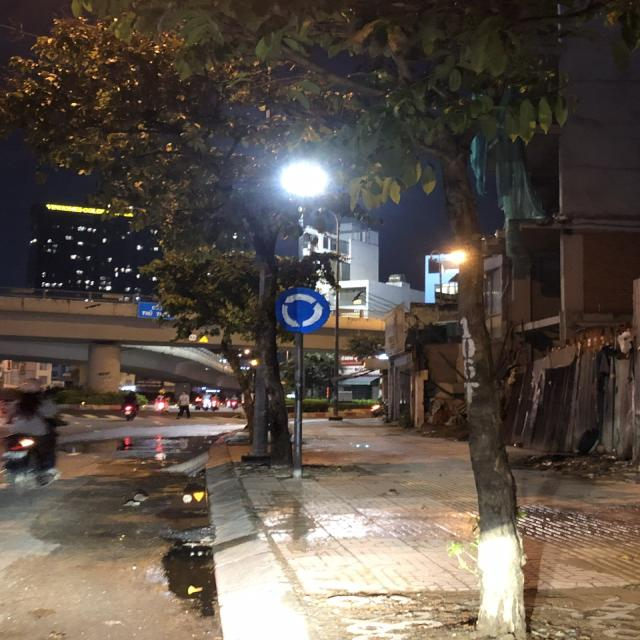Bien bao noi giao nhau chay theo vong xuyen: (272, 285, 334, 334)
